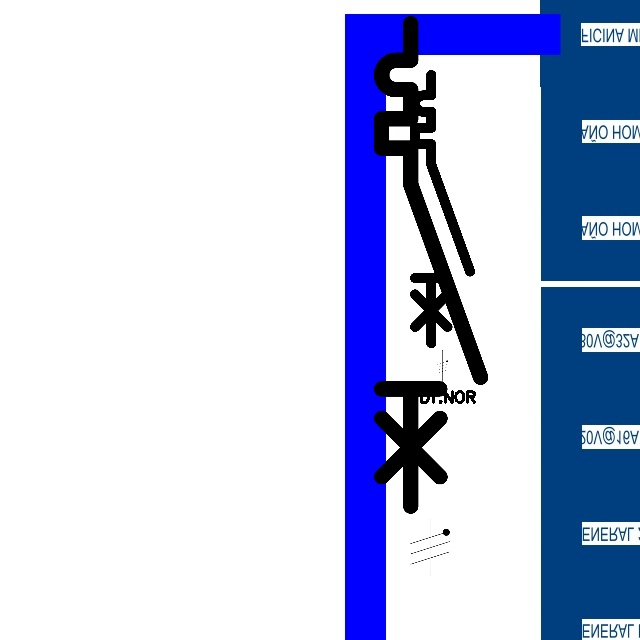interruptor_termomagnetico: (369, 11, 493, 519), (408, 68, 477, 350)
